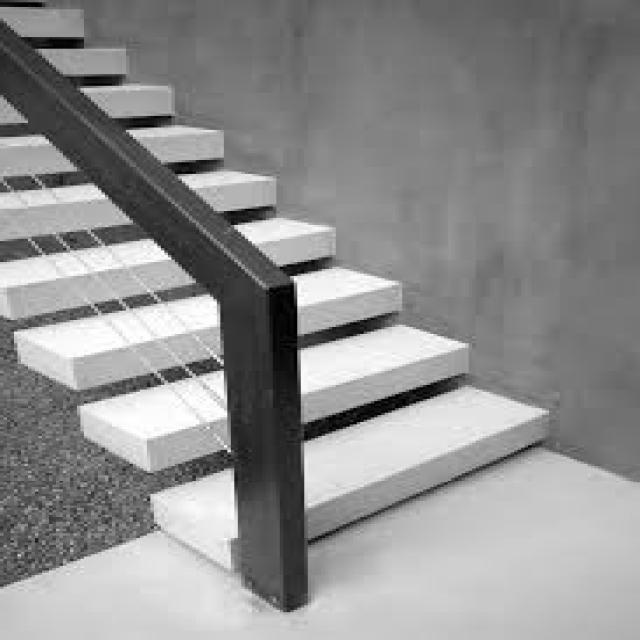stair: (3, 2, 557, 540), (18, 256, 552, 569)
